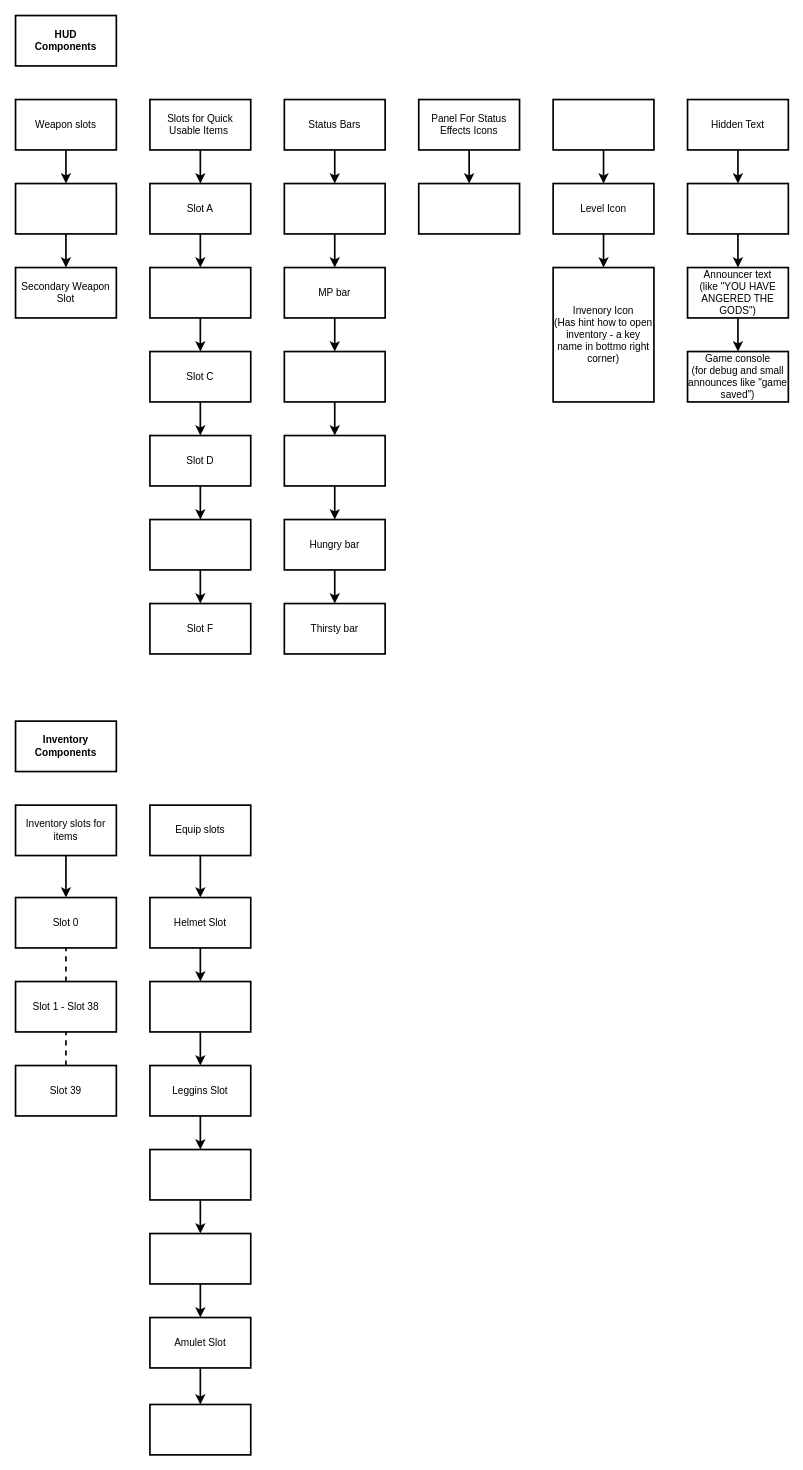
Some shapes in this 803 by 1470 pixel diagram are drawn without their labels. Here are the shapes that lost their labels. From the top down, the centre of each, then its label:
(603,124): Informative Icons
(65,208): Primary Weapon Slot
(334,208): HP bar
(468,208): Rectangle Panel
(737,208): Hint text (small hint like "press "E" to pick up item")
(200,292): Slot B
(334,376): SP(stamina) bar
(334,460): XP bar
(200,544): Slot E
(200,1006): Body armor Slot
(200,1174): Boots Slot
(200,1258): Ring Slot
(200,1429): Gloves Slot
